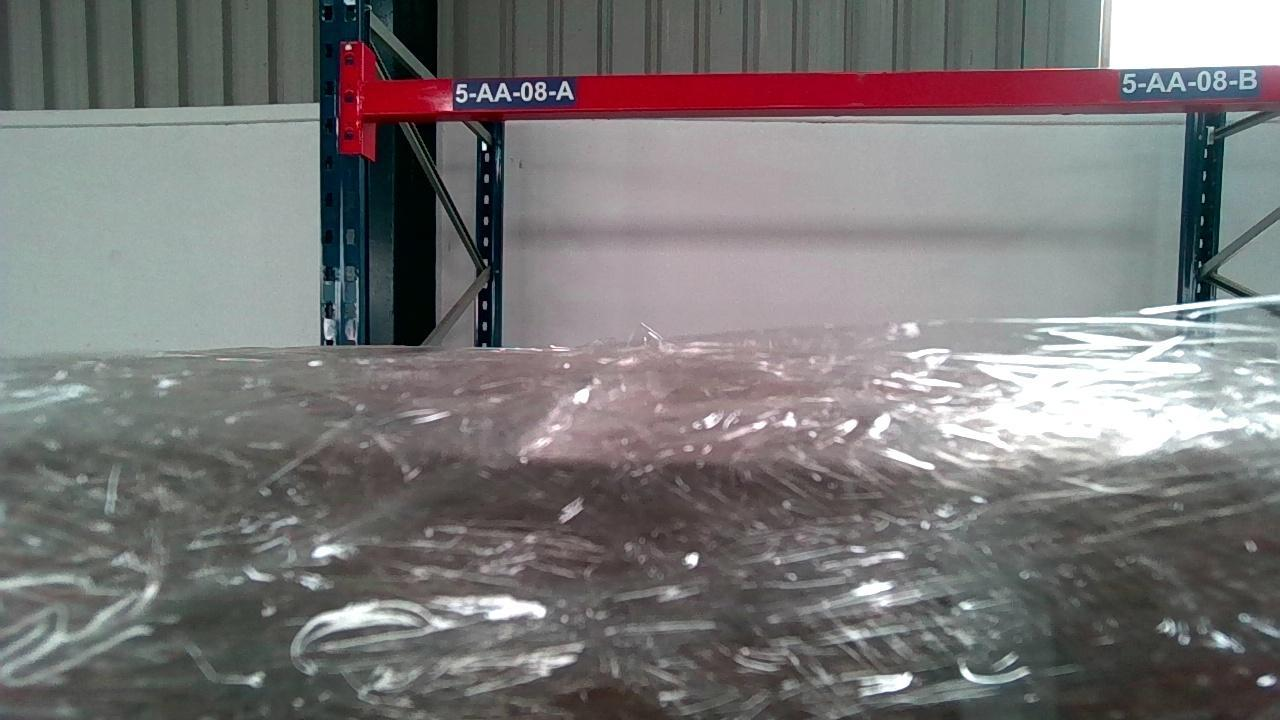h_rack: (368, 61, 1279, 119)
